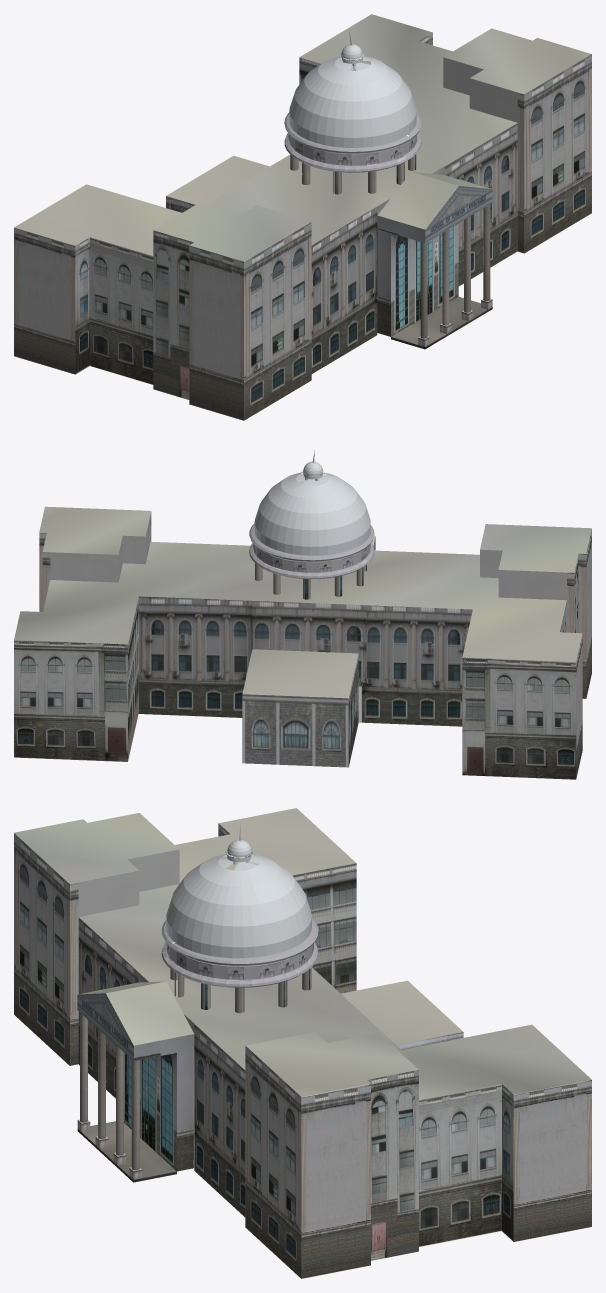
The model's file is gjjyxy.gltf.
3 views of the same model, one above another, from view 1: azimuth 30°, elevation 25°; view 2: azimuth 150°, elevation 25°; view 3: azimuth 270°, elevation 25° (orthographic). The views are drawn at different scales.
Parts seen in each view (by area): view 1: Mesh02#6, Mesh06#2, Mesh05#3, skp685B, Mesh01#6, Mesh03#3, Mesh04#3; view 2: Mesh02#6, Mesh06#2, Mesh05#3; view 3: Mesh02#6, Mesh06#2, Mesh05#3, skp685B, Mesh01#6, Mesh04#3, Mesh03#3.
Boxes of the visible parts, x1=… form: Mesh02#6: x1=14, y1=14, x2=591, y2=420; Mesh06#2: x1=284, y1=32, x2=421, y2=165; Mesh05#3: x1=284, y1=133, x2=421, y2=194; skp685B: x1=408, y1=154, x2=427, y2=338; Mesh01#6: x1=483, y1=204, x2=490, y2=301; Mesh03#3: x1=442, y1=229, x2=449, y2=325; Mesh04#3: x1=464, y1=216, x2=470, y2=312; Mesh02#6: x1=14, y1=506, x2=591, y2=779; Mesh06#2: x1=249, y1=450, x2=374, y2=572; Mesh05#3: x1=249, y1=543, x2=374, y2=599; Mesh02#6: x1=14, y1=808, x2=591, y2=1278; Mesh06#2: x1=161, y1=824, x2=318, y2=979; Mesh05#3: x1=161, y1=942, x2=318, y2=1013; skp685B: x1=80, y1=975, x2=210, y2=1122; Mesh01#6: x1=131, y1=1059, x2=139, y2=1170; Mesh04#3: x1=116, y1=1045, x2=123, y2=1155; Mesh03#3: x1=98, y1=1029, x2=105, y2=1139.
Bounding box in the file's own units: 0.0801 × 0.0354 × 0.0605.
Materials: 3 (2 with a texture image).
